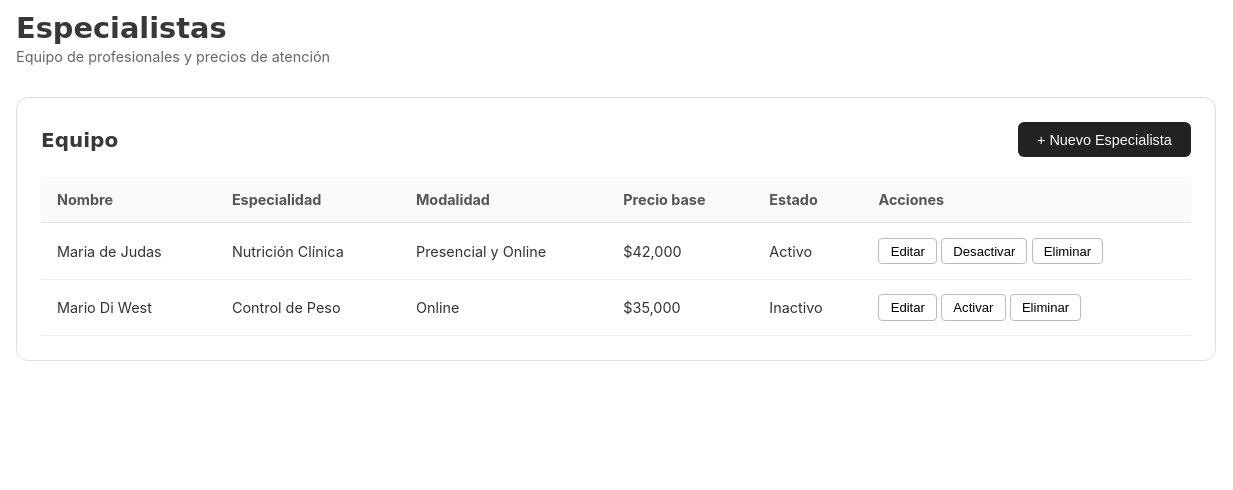
Test: Especialistas › permite cambiar el precio de un especialista existente
Expected: the text "Maria de Judas" is shown, [41,223,216,279]
Click the button "Editar" in the row of "Maria de Judas".
click(908, 251)  # box [878,238,937,264]
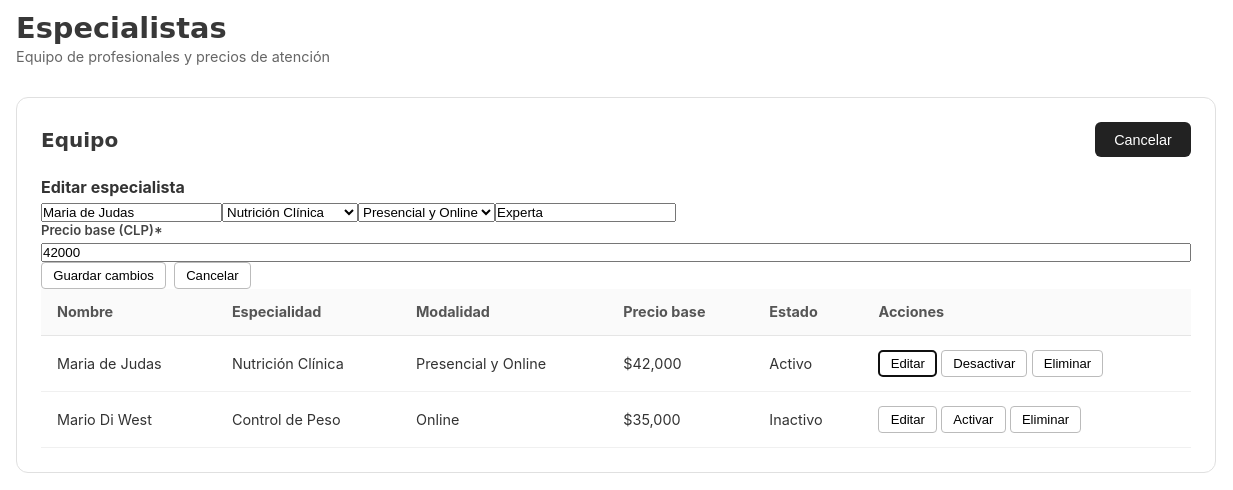
Replace the text in the number field labelled "Precio base (CLP)*" with "52000" at (616, 253), box [41,243,1191,262]
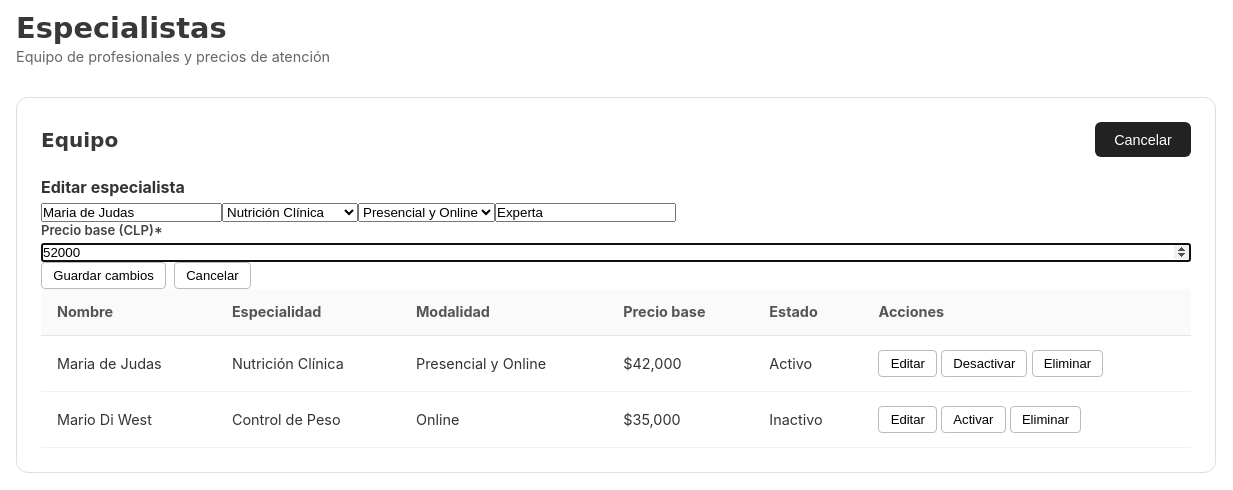
Click the button "Guardar cambios".
click(103, 276)  # box [41,262,166,289]
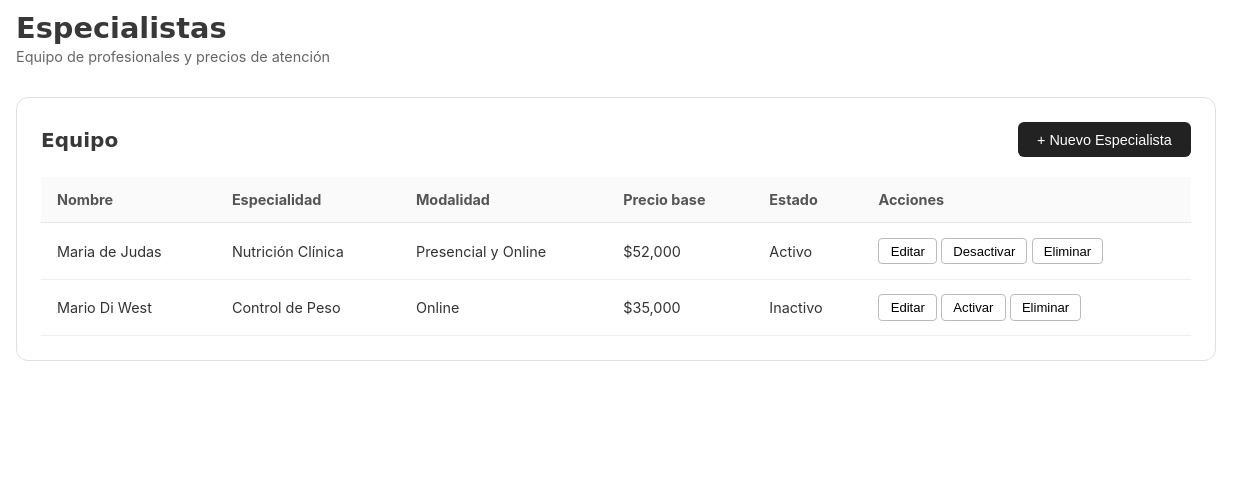
Expected: the text "$52,000" is shown, [607,223,753,279]
